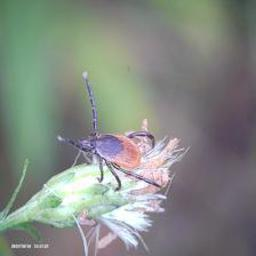Ixodes scapularis: (58, 75, 161, 191)
